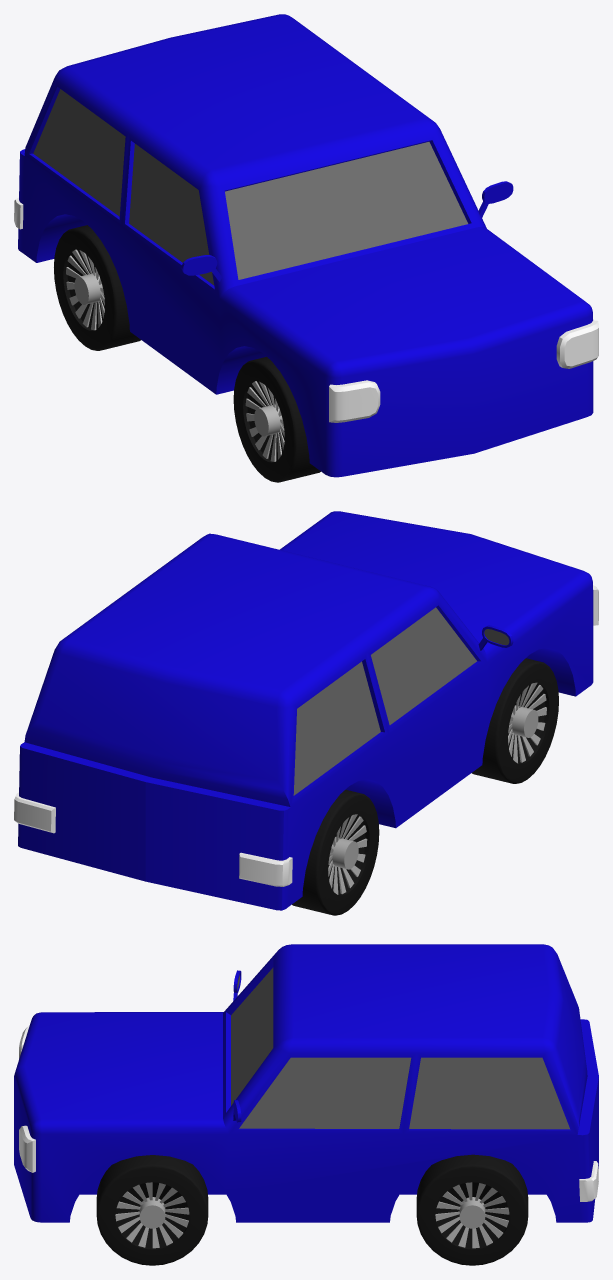
The model's file is car_PRETEXTURE_000.fbx.
The picture shows the model from 3 angles, top to bottom: view 1: azimuth 30°, elevation 25°; view 2: azimuth 150°, elevation 25°; view 3: azimuth 270°, elevation 25°; orthographic projection. The views are drawn at different scales.
Visible parts, largest first — view 1: Cube; view 2: Cube; view 3: Cube.
Part boxes in pixels (<box>): Cube: <box>14,14,598,482</box>; Cube: <box>14,511,598,915</box>; Cube: <box>14,944,598,1265</box>.
Size of the model in its own units: 216 by 153 by 372.
